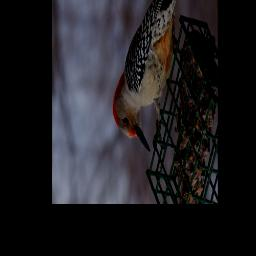Woodpecker: (112, 0, 185, 151)
